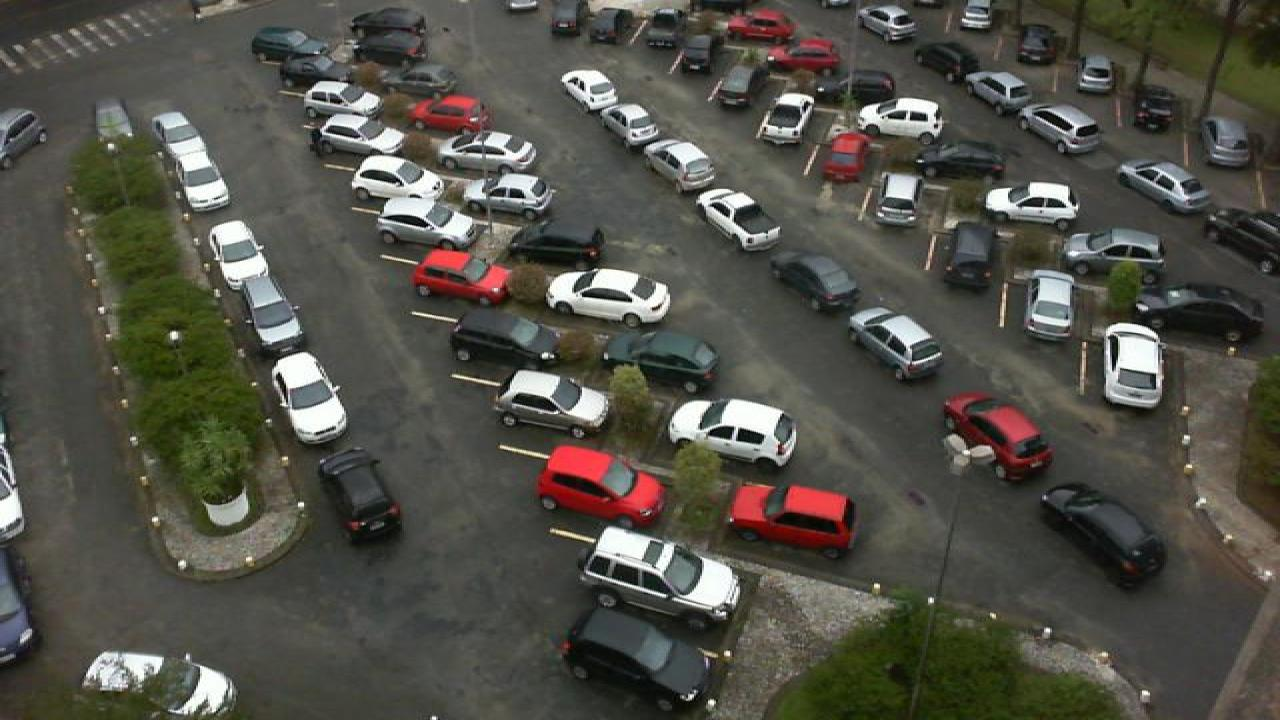Car: (556, 604, 716, 717), (578, 526, 744, 622), (1038, 481, 1170, 590), (532, 442, 666, 528), (80, 649, 238, 720), (940, 391, 1056, 483), (726, 479, 858, 556), (666, 396, 802, 470), (316, 446, 404, 546), (1134, 282, 1268, 344), (492, 369, 610, 439), (844, 306, 948, 382), (602, 330, 724, 393), (544, 267, 672, 326), (270, 351, 350, 444), (446, 307, 562, 368), (408, 246, 514, 306), (370, 196, 480, 250), (694, 187, 784, 252), (770, 251, 862, 314), (1064, 226, 1166, 282), (1102, 322, 1166, 408), (1116, 160, 1214, 216), (348, 153, 448, 204), (508, 218, 606, 269), (240, 274, 304, 352), (1204, 206, 1280, 271), (984, 181, 1080, 230), (434, 130, 540, 174), (1018, 102, 1104, 156), (464, 171, 556, 221), (308, 112, 408, 158), (208, 219, 270, 288), (914, 138, 1010, 182), (642, 137, 720, 191), (858, 96, 948, 142), (942, 219, 1000, 288), (1022, 268, 1076, 336), (408, 93, 492, 134), (966, 70, 1038, 117), (174, 154, 230, 214), (868, 173, 924, 233), (300, 79, 384, 119), (754, 92, 816, 146), (374, 62, 462, 99), (1196, 116, 1256, 169), (150, 111, 210, 163), (820, 130, 876, 185), (248, 26, 330, 63), (352, 30, 428, 68), (910, 42, 982, 82), (558, 68, 622, 112), (278, 53, 356, 89), (600, 102, 660, 148), (708, 66, 766, 112), (348, 6, 430, 38), (728, 7, 800, 43), (774, 37, 844, 74), (856, 3, 920, 40), (1130, 81, 1174, 134), (832, 68, 898, 102), (668, 32, 718, 73), (638, 8, 684, 50), (586, 5, 632, 46), (1014, 23, 1060, 64), (1076, 52, 1116, 96), (548, 0, 590, 37), (958, 0, 996, 34)
